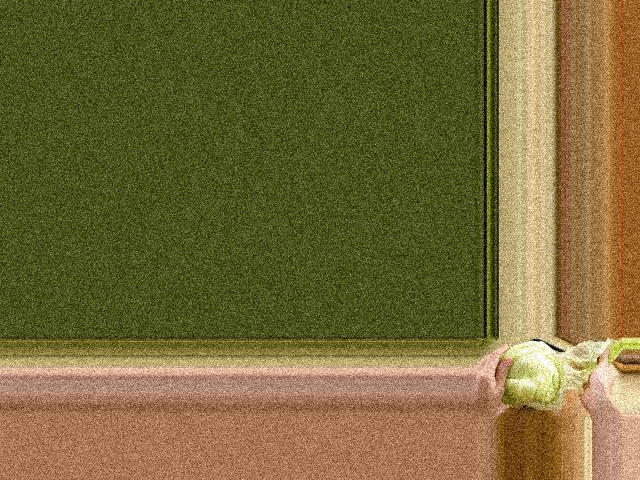lettuce: (495, 338, 581, 414)
